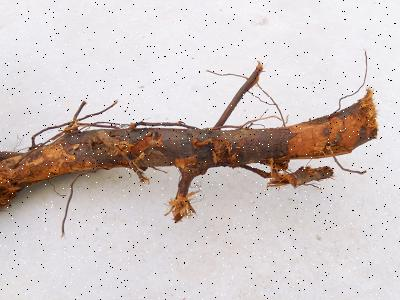Root: (0, 64, 377, 221)
